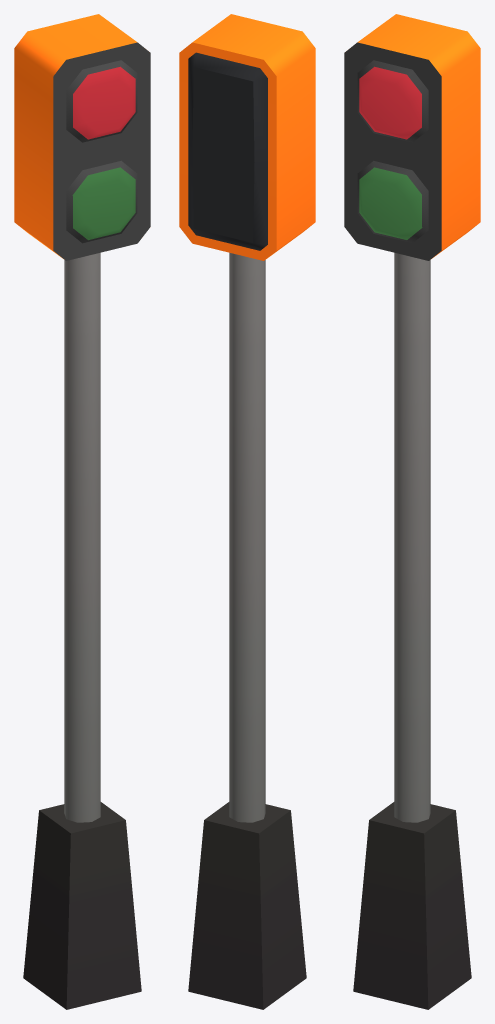
File: city2-traffic-light-01.glb
The picture shows the model from 3 angles, left to right: view 1: azimuth 30°, elevation 25°; view 2: azimuth 150°, elevation 25°; view 3: azimuth 330°, elevation 25°; orthographic projection.
Parts seen in each view (by area): view 1: Traffic_Light_01; view 2: Traffic_Light_01; view 3: Traffic_Light_01.
Boxes of the visible parts, <box> form: Traffic_Light_01: <box>14,14,150,1009</box>; Traffic_Light_01: <box>179,14,315,1009</box>; Traffic_Light_01: <box>344,14,480,1009</box>.
Size of the model in its own units: 0.3789 by 3.53 by 0.341.
2 materials, 2 textured.
